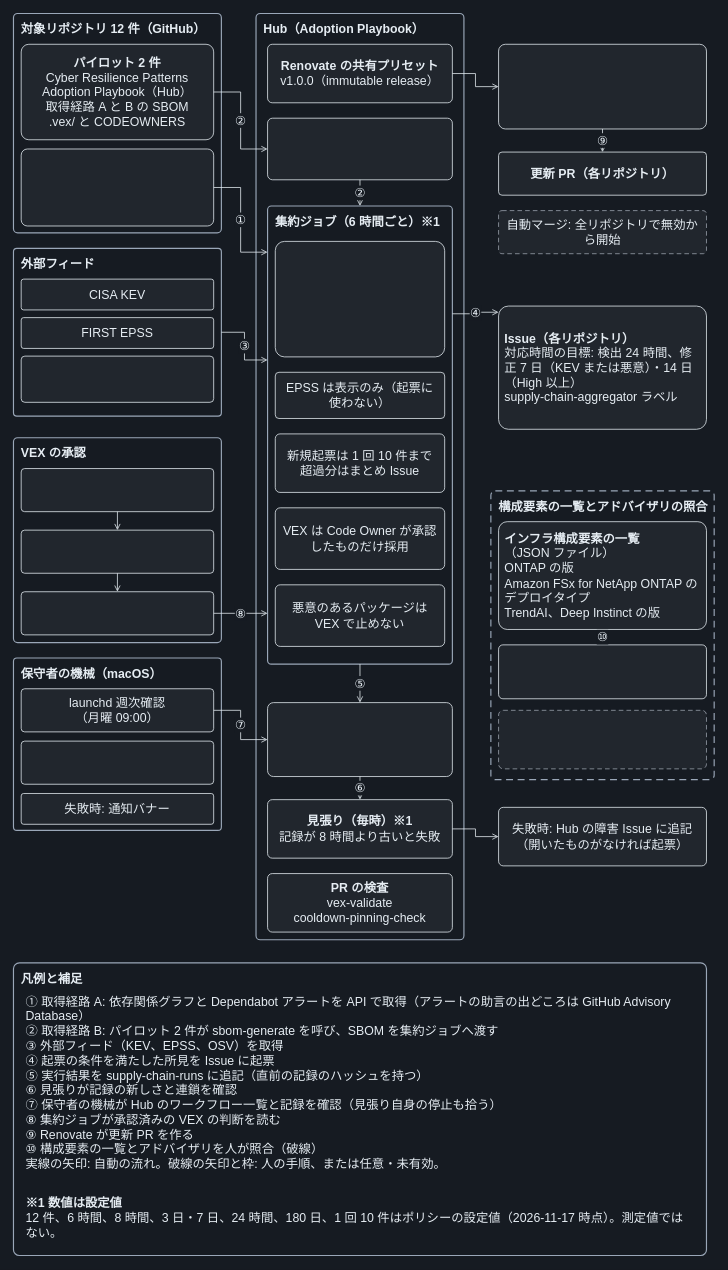
Some shapes in this 728 by 1270 pixel diagram are drawn without their labels. The shapes that lost their labels are listed below. From the top down, each one's centre as x and y in pixels, then its label:
At (x=602, y=86): "Renovate （Mend 提供） Hub の共有プリセットを extends 待ち時間: 通常 3 日、メジャー 7 日".
At (x=359, y=148): "sbom-generate 再利用可能ワークフロー skip-paths 入力".
At (x=117, y=187): "そのほか 10 件 取得経路 A のみ （依存関係グラフと Dependabot アラート）".
At (x=360, y=299): "起票の条件（どれか 1 つ） CVSS が High 以上 CISA KEV に掲載 悪意のあるパッケージ（MAL-）".
At (x=117, y=378): "OSV と OpenSSF Malicious Packages".
At (x=117, y=490): "別身元の GitHub App が PR を作成".
At (x=117, y=551): "所有者が承認 （CODEOWNERS /.vex/）".
At (x=117, y=613): ".vex/ に判断を保存 （180 日で失効）".
At (x=602, y=671): "NetApp のセキュリティ アドバイザリ（RSS）".
At (x=359, y=739): "supply-chain-runs ブランチ 実行結果の記録 連鎖ハッシュ、先端のタグ、月の封印".
At (x=602, y=739): "AWS Security Bulletins の FSx for ONTAP 掲載: 未確認（照合の対象に含めていない）".
At (x=117, y=762): "launchd 期限確認 （毎日 09:00）".
